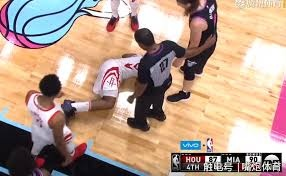falling: (59, 46, 157, 115)
